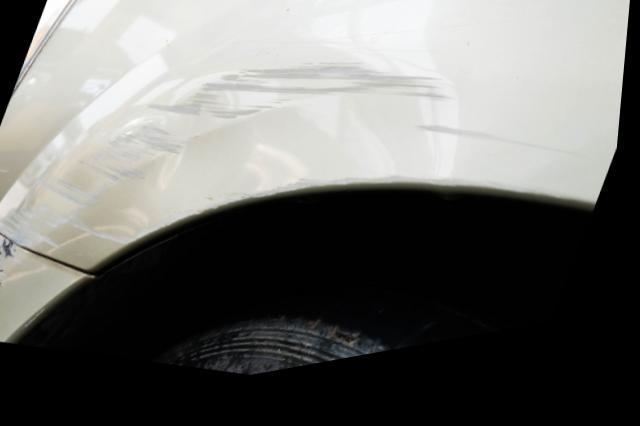scratch: (0, 71, 585, 264), (0, 236, 25, 311)
